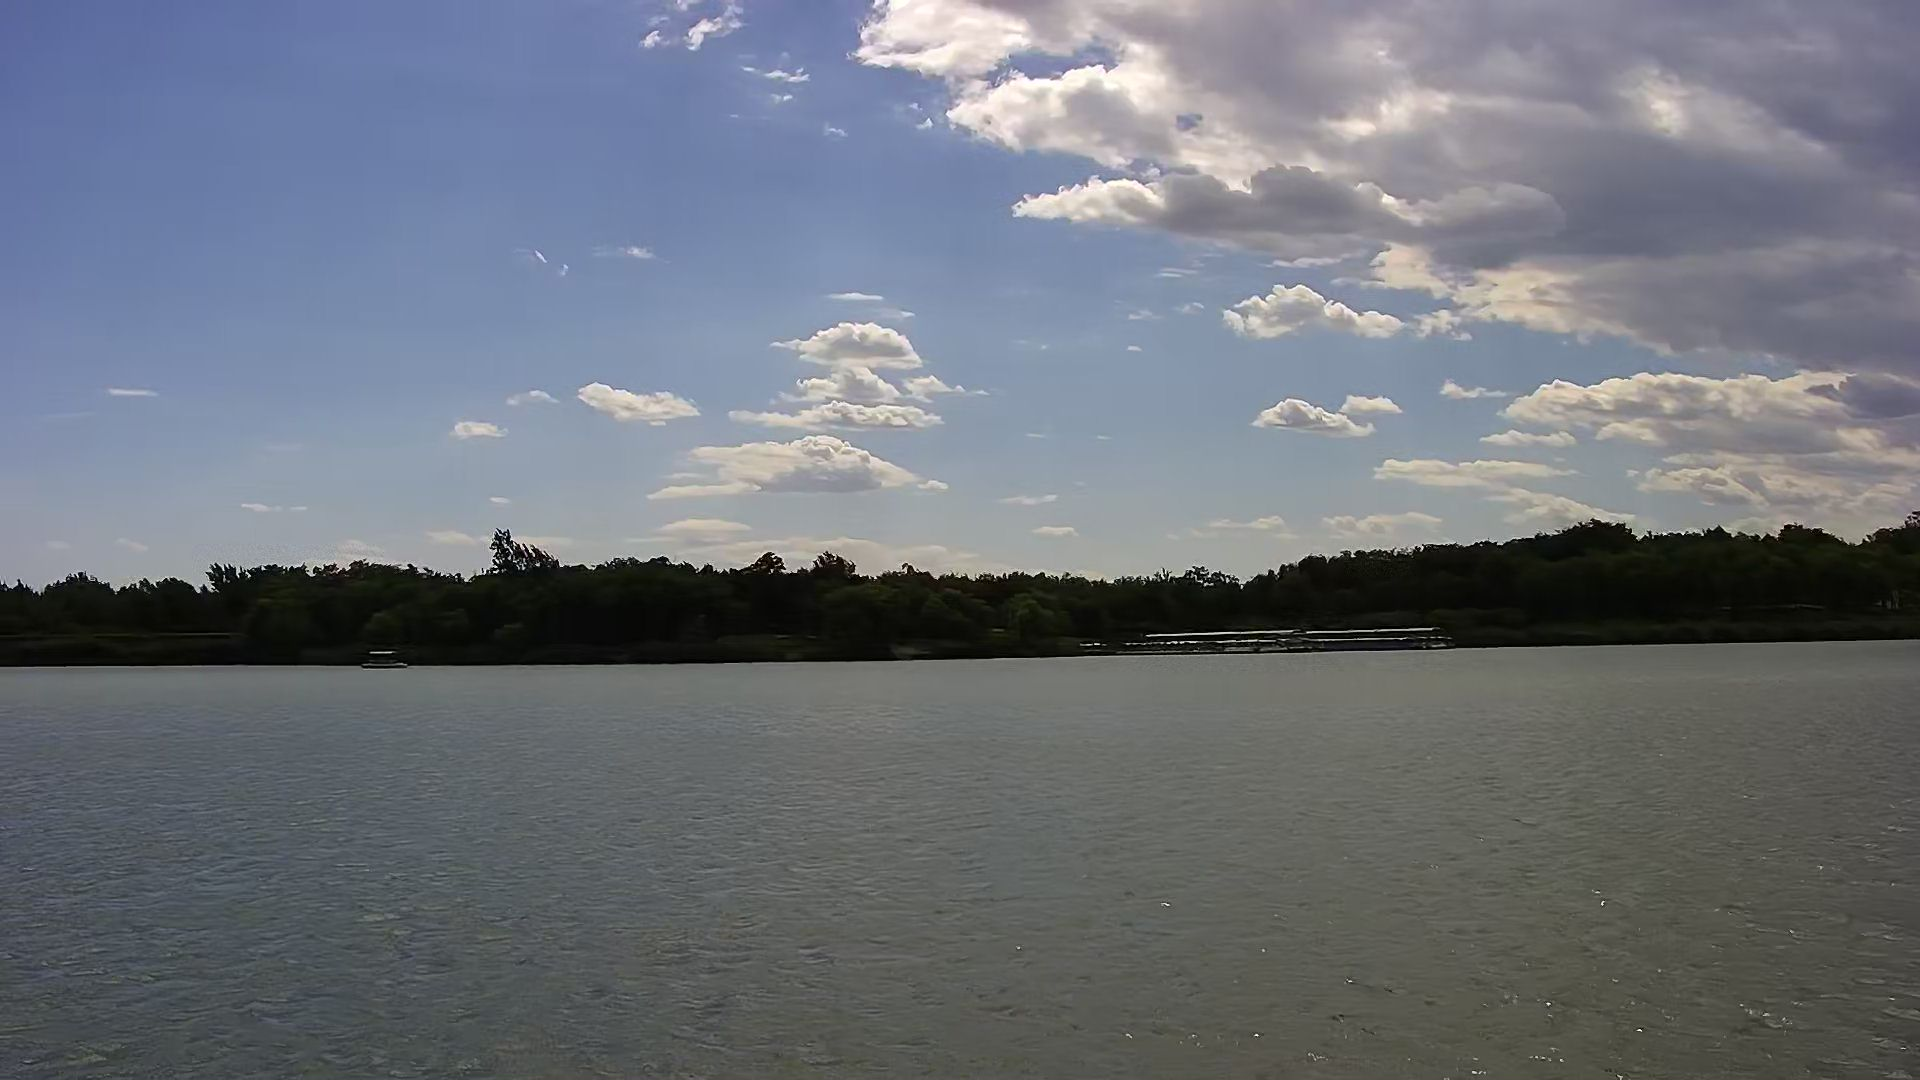boat: (349, 644, 413, 673)
harbor: (1110, 618, 1458, 659)
